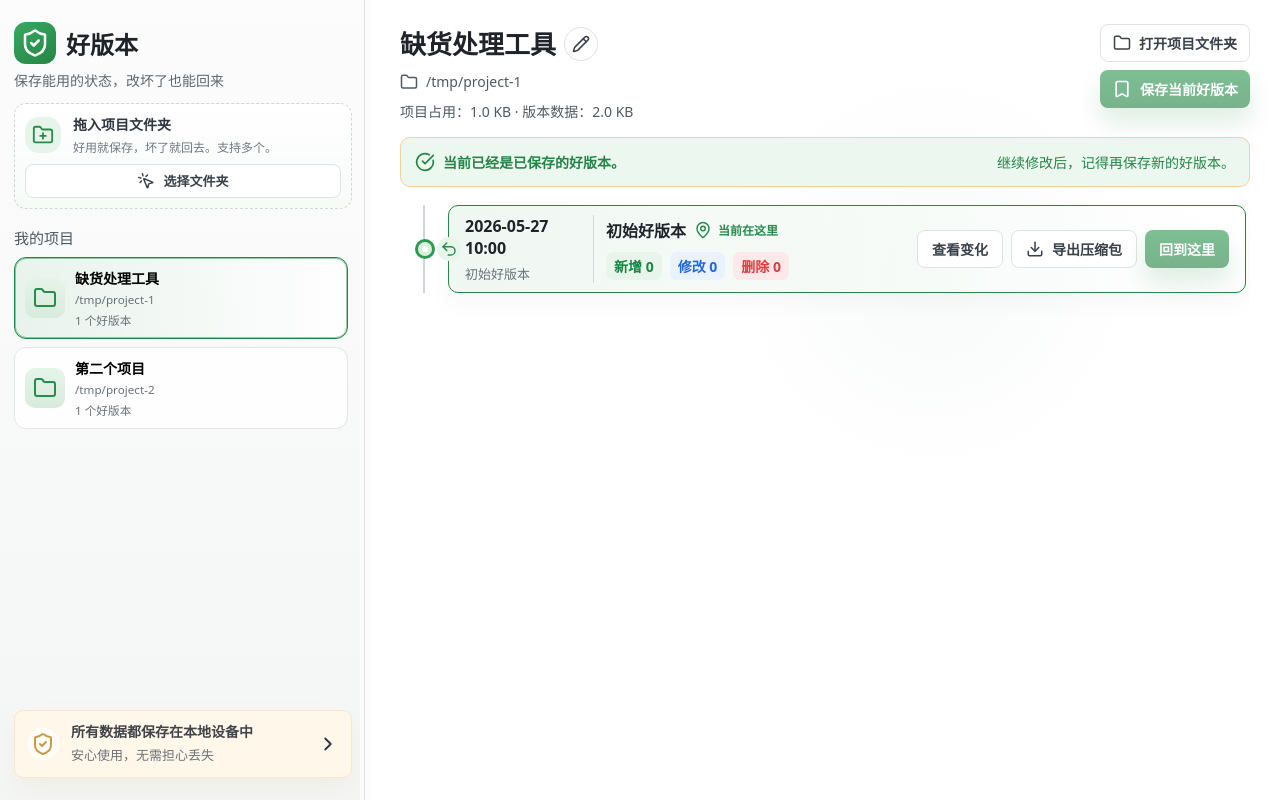
Test: App › 切换项目时退出项目名编辑状态
expect the heading "缺货处理工具" is shown: met, box [400, 24, 556, 62]
Click the button named "修改项目显示名" at (581, 44), box [564, 27, 598, 61]
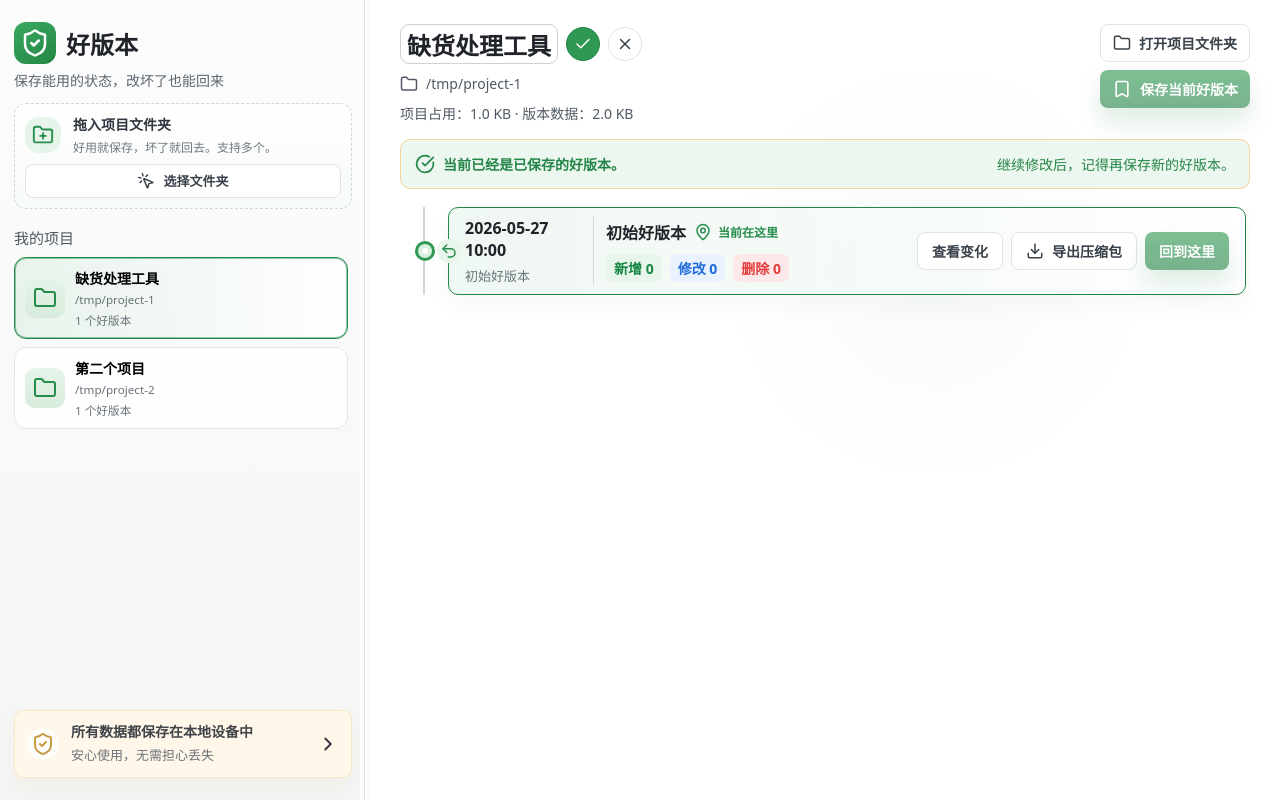
expect the field named "项目显示名" is shown: met, box [400, 24, 558, 64]
Click the button named "第二个项目/tmp/project-21 个好版本" at (45, 388), box [14, 347, 348, 429]
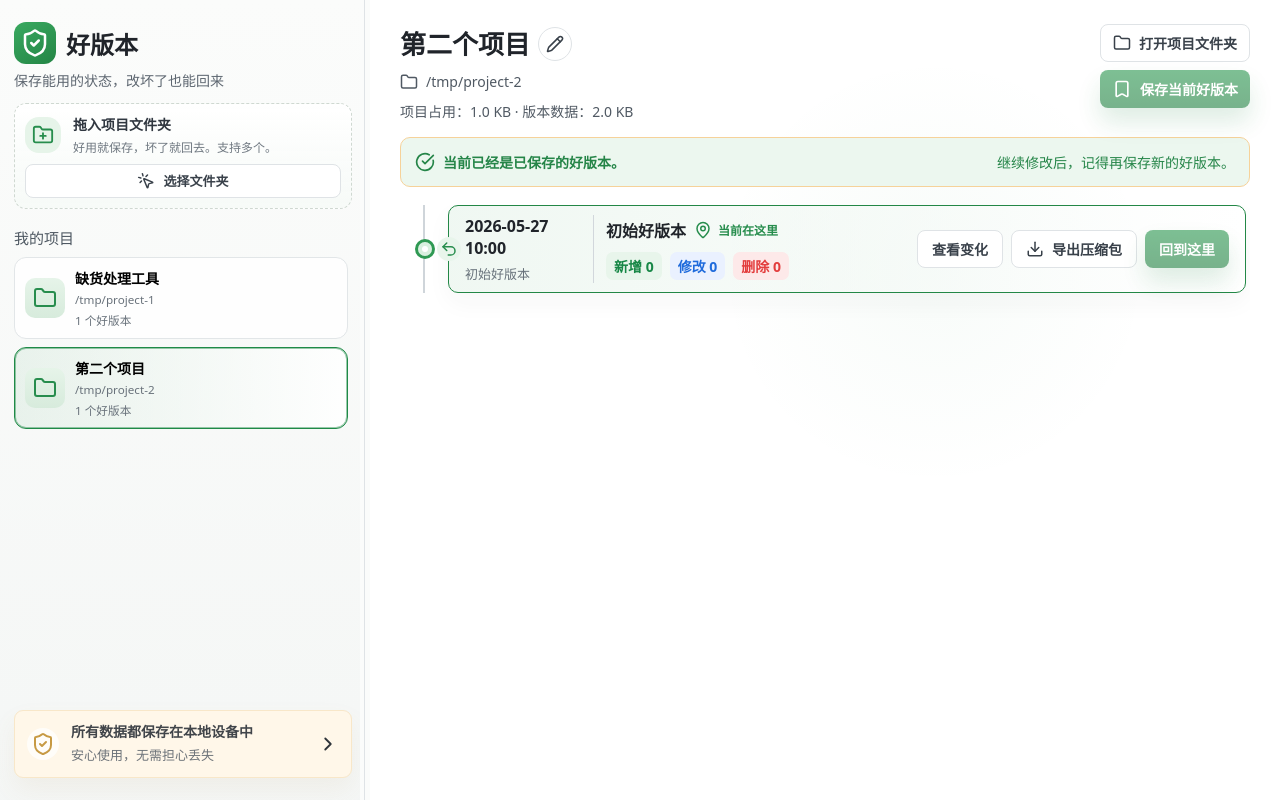
expect the heading "第二个项目" is shown: met, box [400, 24, 530, 62]
expect the field labelled "项目显示名" is gone: met
expect the button named "修改项目显示名" is shown: met, box [538, 27, 572, 61]
